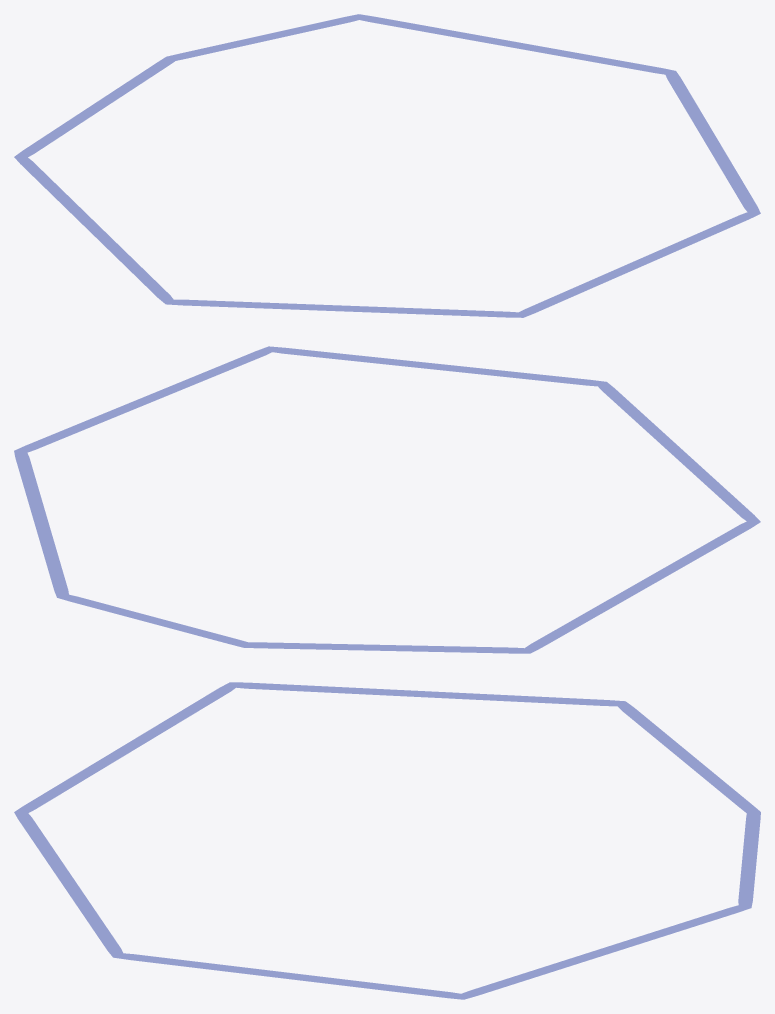
The model's file is big.ring.fbx.
3 renders of one model, top to bottom at view 1: azimuth 30°, elevation 25°; view 2: azimuth 150°, elevation 25°; view 3: azimuth 270°, elevation 25°, orthographic. The views are drawn at different scales.
Parts seen in each view (by area): view 1: ring.big; view 2: ring.big; view 3: ring.big.
Boxes of the visible parts, <box> form: ring.big: <box>14,14,760,317</box>; ring.big: <box>14,346,760,653</box>; ring.big: <box>14,682,760,999</box>.
Size of the model in its own units: 607 by 4.77e-07 by 603.
